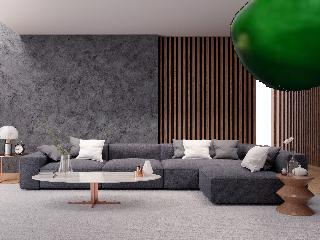lime: (231, 0, 320, 91)
